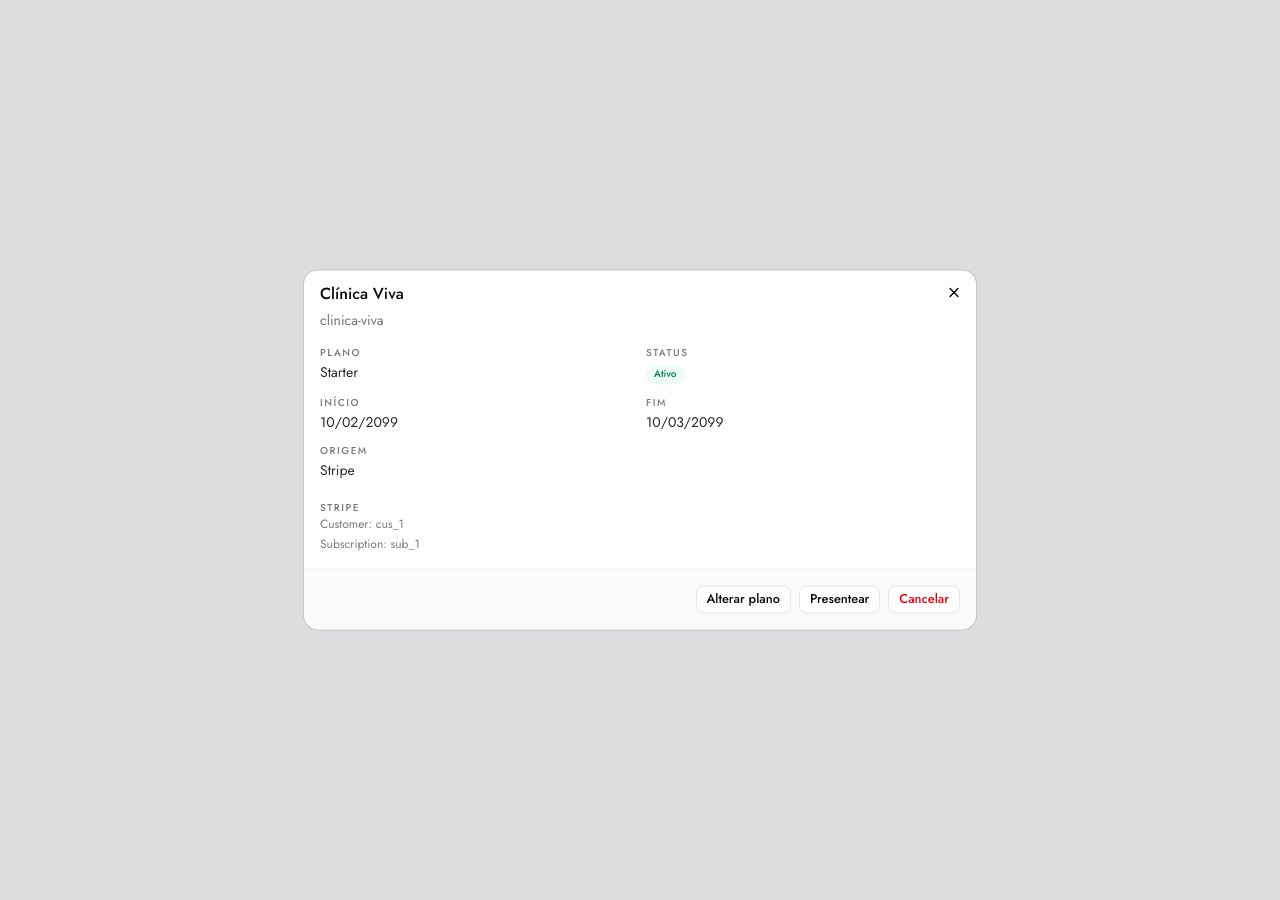
Test: SubscriptionDetailDialog on a Stripe subscription › points "Cancelar" to Stripe instead of cancelling locally
Click the button "Cancelar".
click(924, 600)  # box [888,586,960,614]
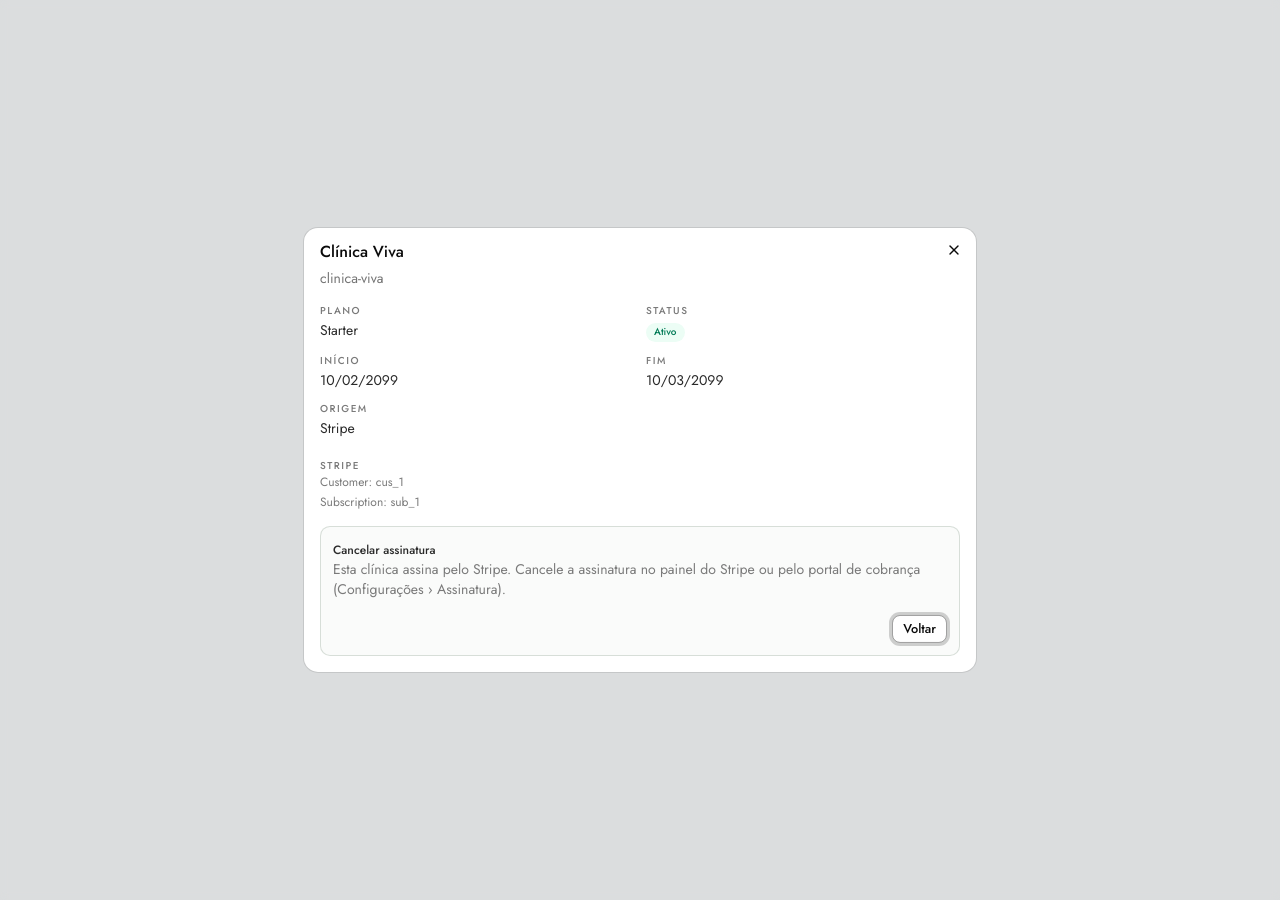
Check: the text with test id "admin-stripe-cancel" shows "painel do Stripe ou pelo portal de cobrança", box [333,559,920,599]
